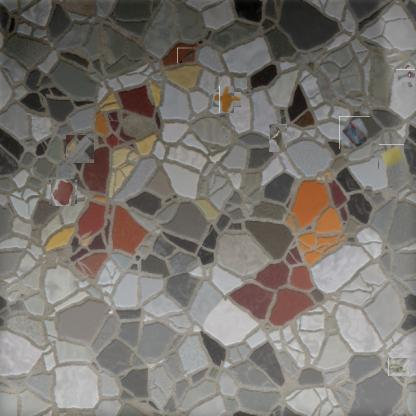dirty: (339, 116, 370, 149), (66, 135, 94, 163), (378, 144, 404, 169), (269, 124, 287, 152), (398, 66, 416, 85), (390, 358, 408, 377), (177, 48, 196, 64)
liquid: (50, 179, 76, 205), (216, 89, 238, 110)
